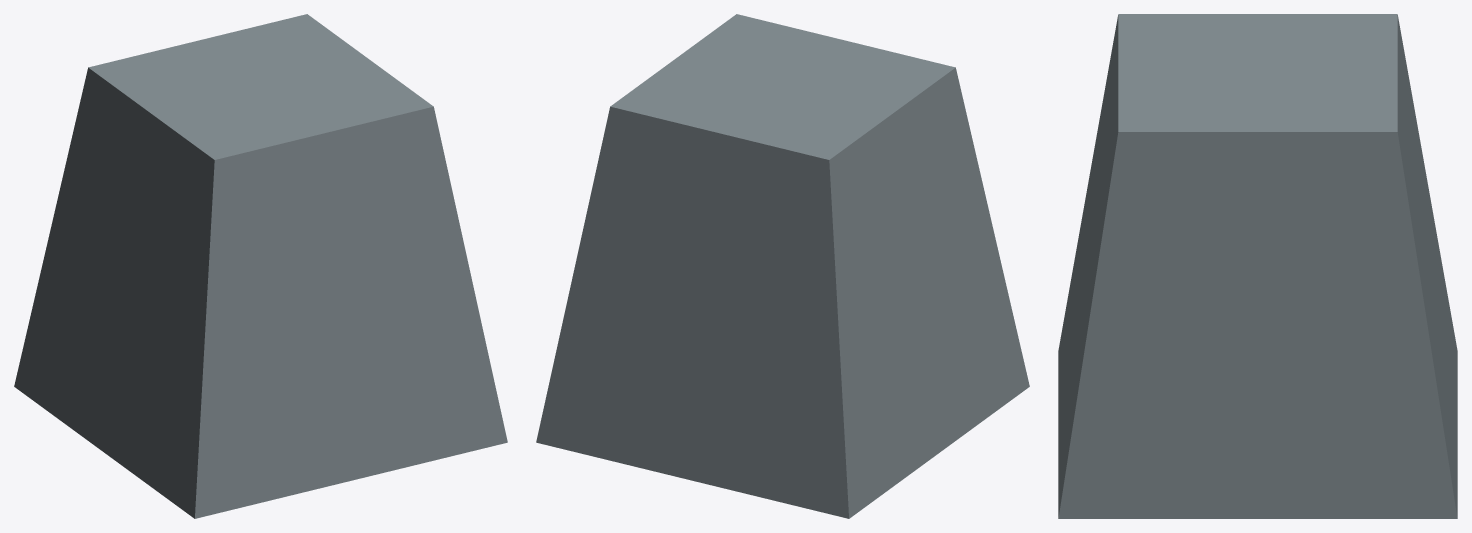
File: Rock_2_A_Color1.glb
3 renders of one model, left to right at view 1: azimuth 30°, elevation 25°; view 2: azimuth 150°, elevation 25°; view 3: azimuth 270°, elevation 25°, orthographic. The views are drawn at different scales.
Parts seen in each view (by area): view 1: Rock_2_A_Color1; view 2: Rock_2_A_Color1; view 3: Rock_2_A_Color1.
Boxes of the visible parts, bbox=[...] form: Rock_2_A_Color1: bbox=[14, 14, 507, 518]; Rock_2_A_Color1: bbox=[536, 14, 1029, 518]; Rock_2_A_Color1: bbox=[1058, 14, 1457, 518].
Bounding box in the file's own units: 0.2156 × 0.2156 × 0.2156.
Materials: 1 (1 with a texture image).
